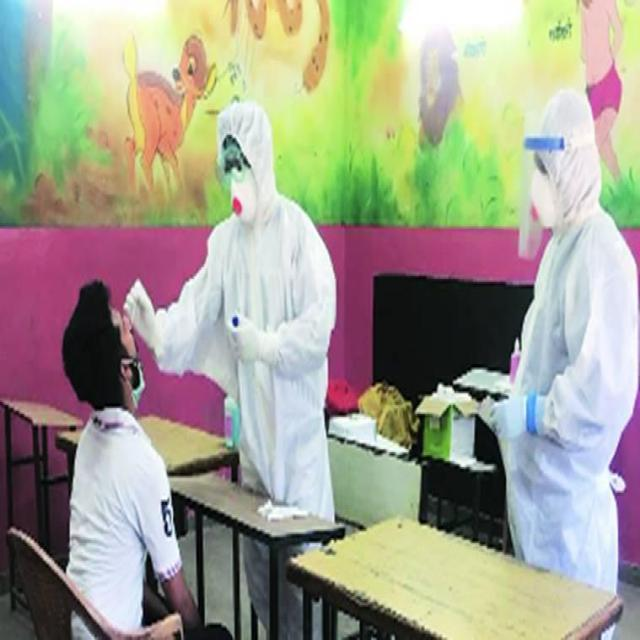Coverall: (478, 90, 617, 613), (175, 91, 348, 499)
Gloves: (110, 272, 188, 366), (220, 308, 268, 373), (484, 382, 522, 423)
Mask: (218, 171, 257, 232)
